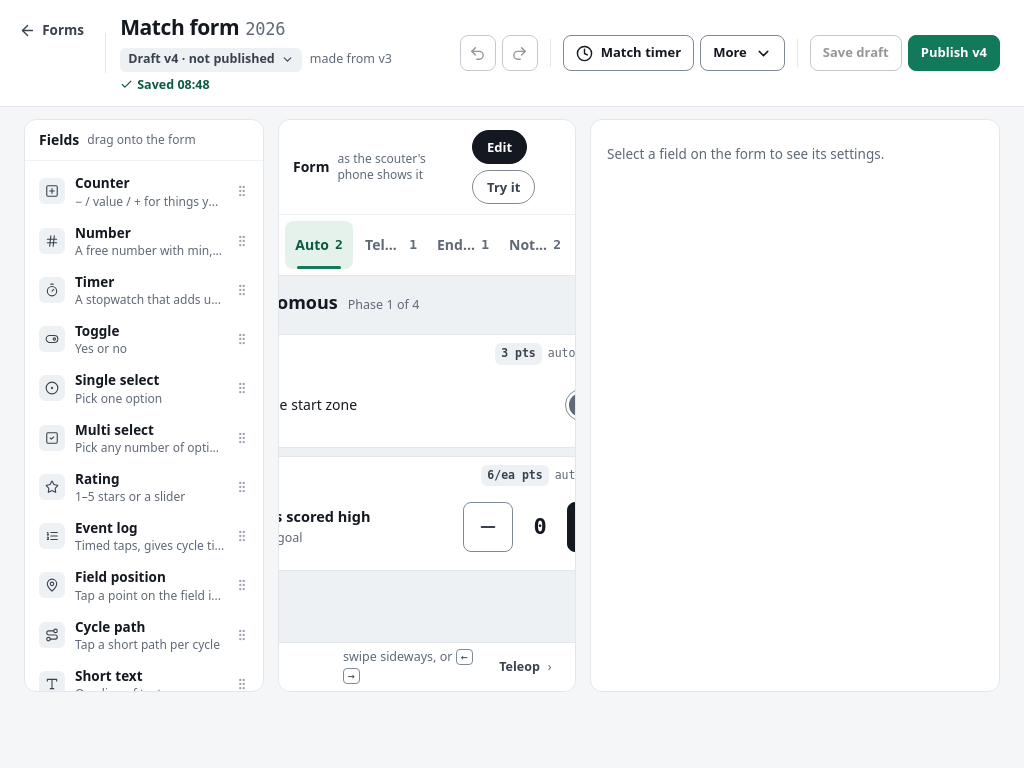
Builder undo and redo (UF.14) › both are held on load; a field added from the palette is undone and redone
This screenshot has width=1024, height=768.
Check: the element "Form" is shown, box [278,119,576,692]
Check: the button named "Undo" is disabled, box [460,35,496,71]
Click the button with aria-label "Add Counter:".
click(144, 191)  # box [31,167,257,216]
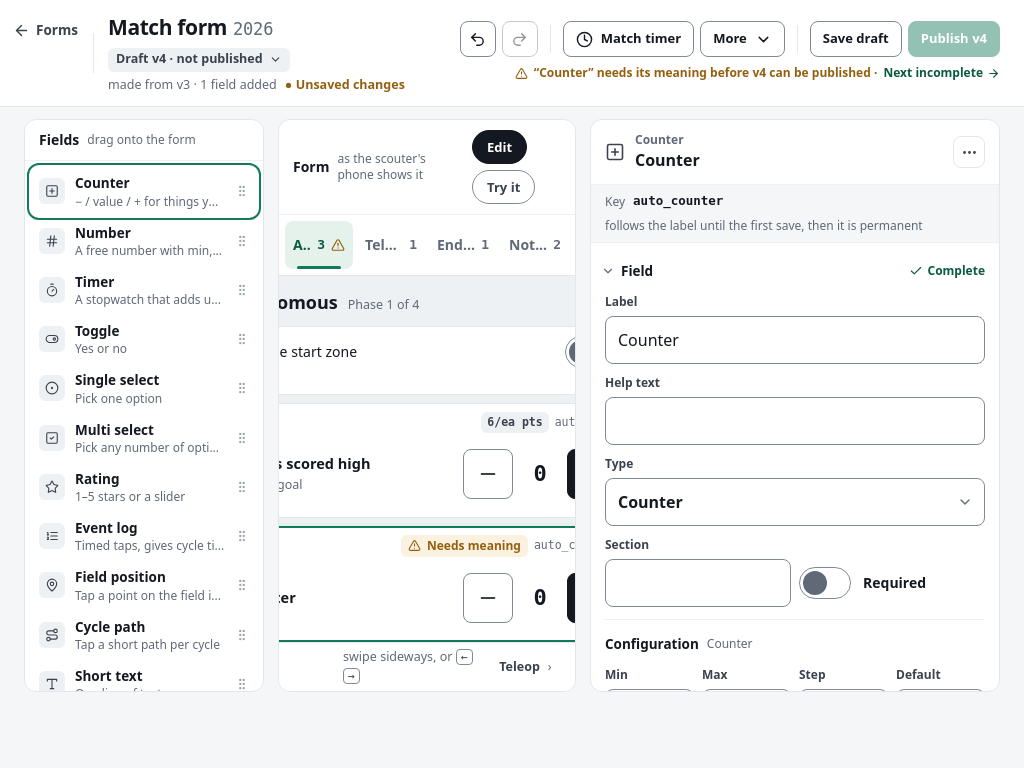
Check: the button named "Redo" is disabled, box [502,21,538,57]
Check: the button named "Undo" is enabled
Click the button named "Undo".
click(478, 39)  # box [460,21,496,57]
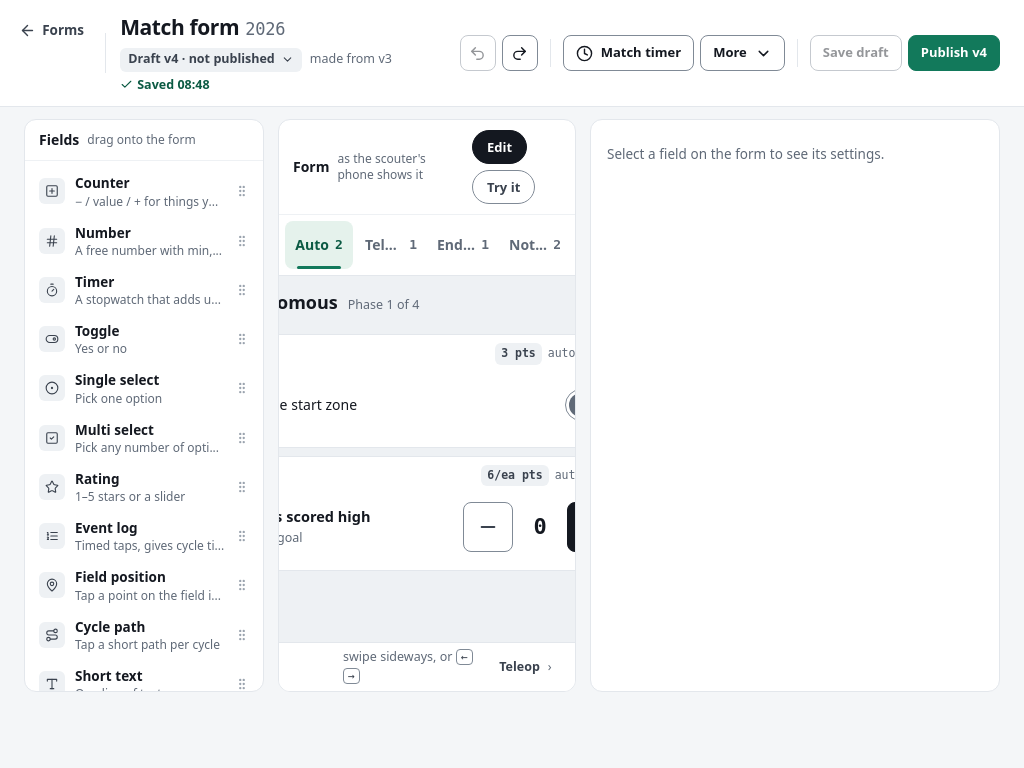
Check: the text "auto_counter" is gone
Check: the message "Saved 08:48" no longer shows "Unsaved changes", box [120,76,210,94]
Check: the button named "Undo" is disabled, box [460,35,496,71]
Click the button named "Redo".
click(520, 53)  # box [502,35,538,71]
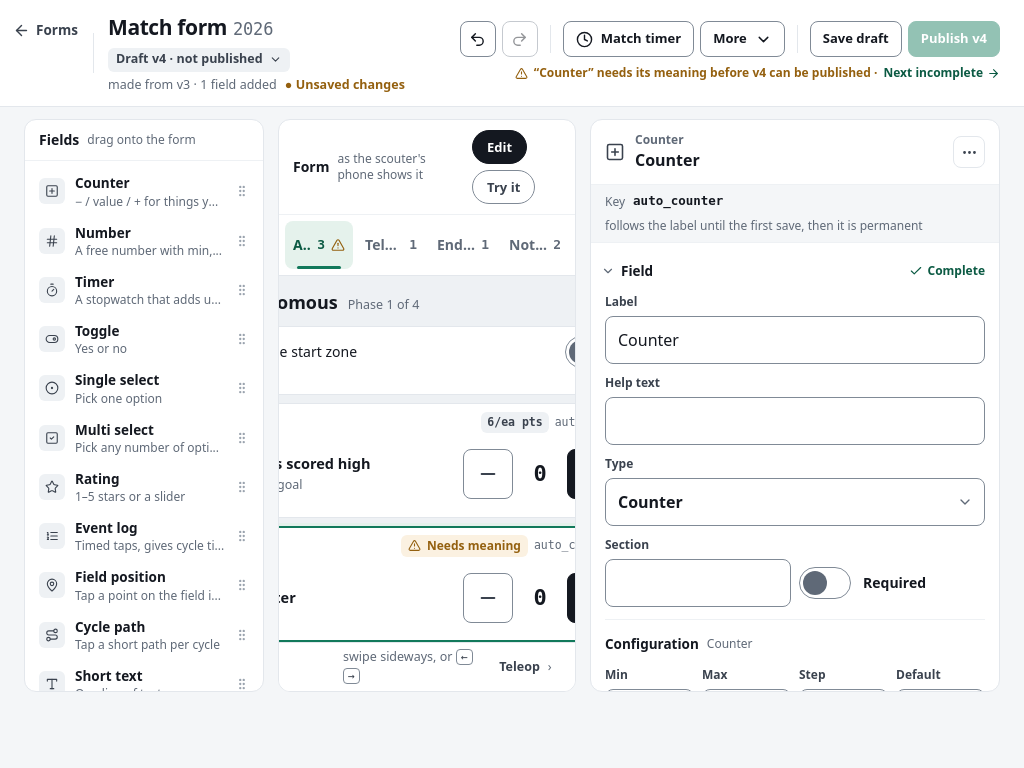
Check: the message "● Unsaved changes" is shown, box [285,76,405,94]
Check: the button named "Redo" is disabled, box [502,21,538,57]
